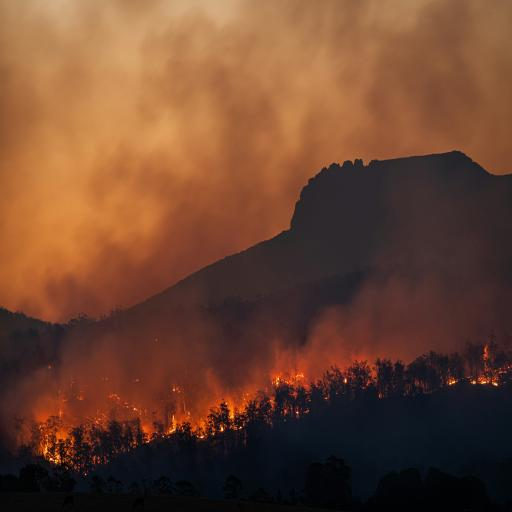smoke: (0, 0, 282, 255)
wildfire: (0, 262, 512, 460)
